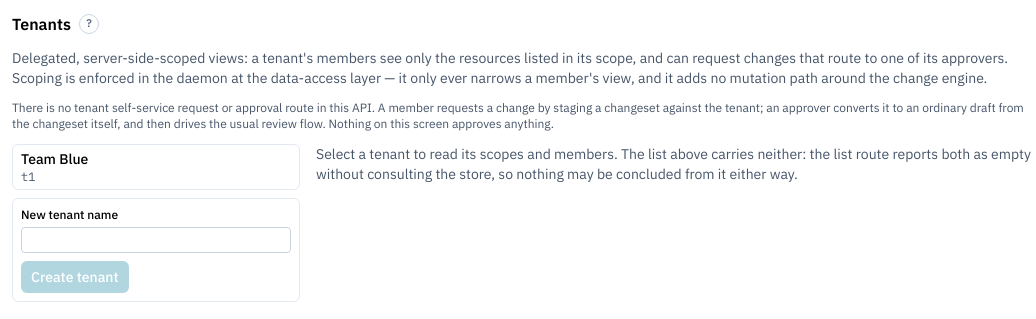
Test: TenantsPanel (T-3002 AC3) › renders a 404 as not found, revealing nothing about the tenant
The width and height of the screenshot is (1036, 319).
Click the button "Team Blue t1": (55, 159) [12,144,300,190]
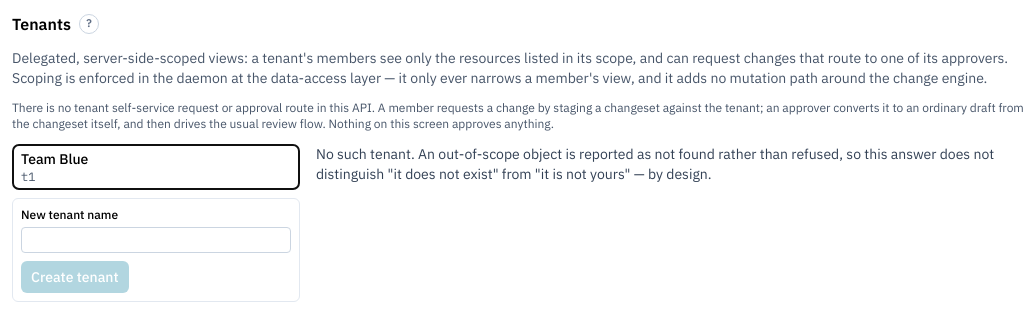
Check: the message with test id "tenant-not-found" shows "No such tenant", box [316,145,994,183]
